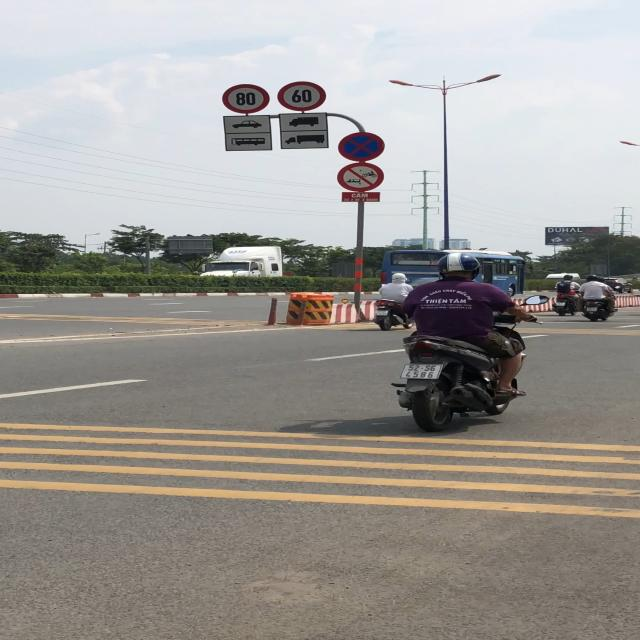Bien bao cam dung xe va do xe: (338, 132, 387, 162)
Bien bao toc do toi da cho phep: (275, 82, 332, 110), (222, 83, 267, 115)
